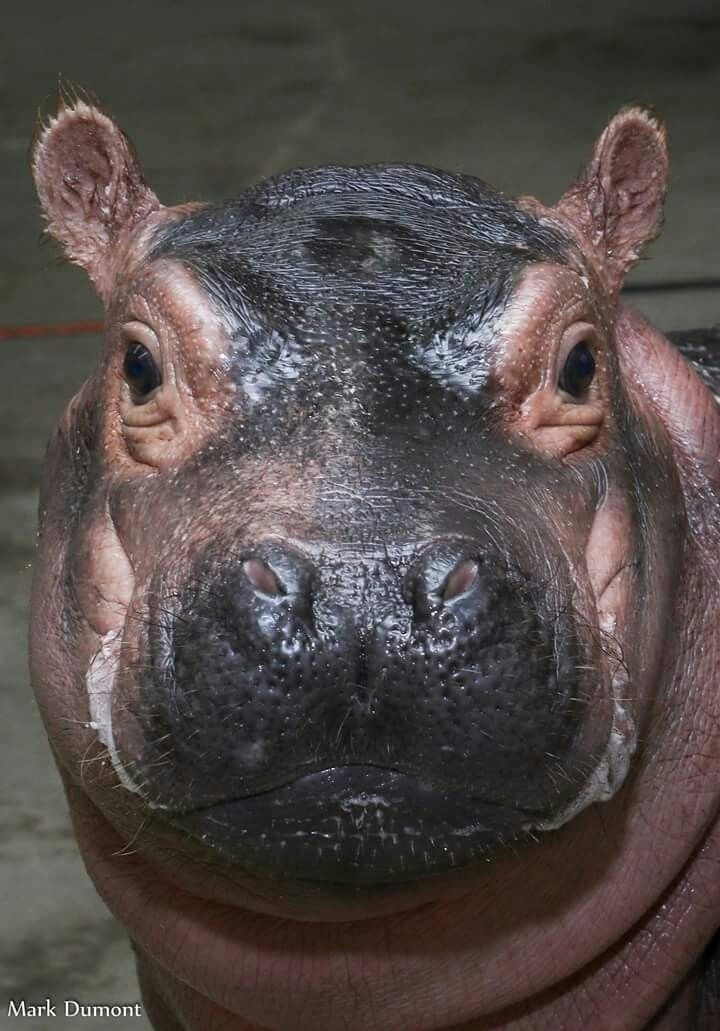hipopotamo: (16, 65, 720, 1031)
